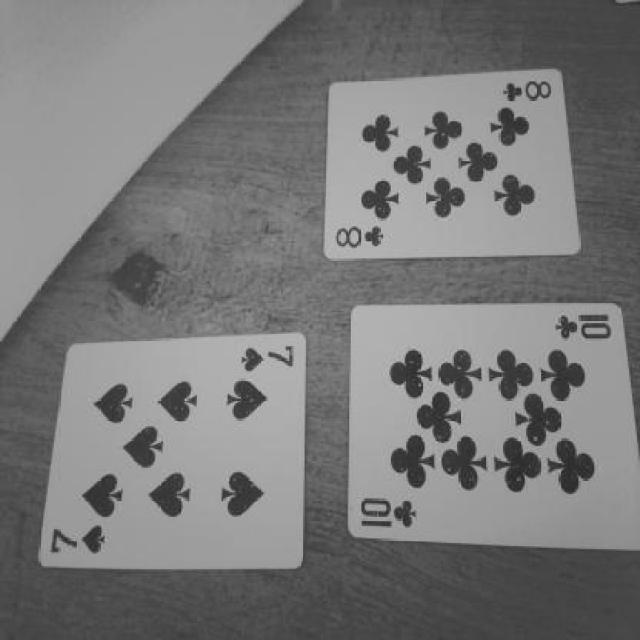10C: (547, 307, 633, 359)
7S: (224, 331, 316, 386)
8C: (483, 71, 565, 115)
